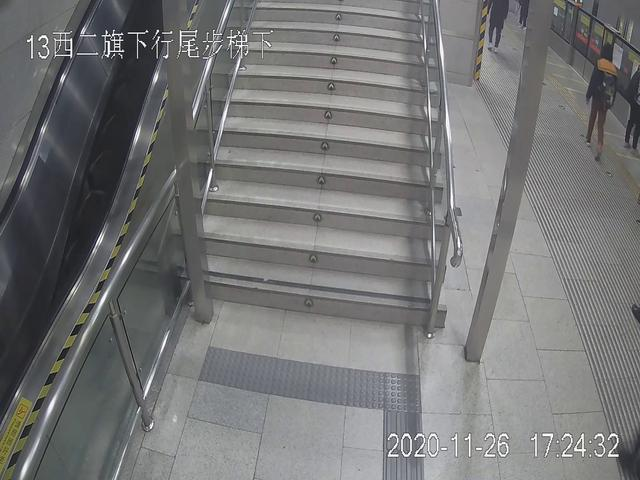person: (582, 36, 618, 160)
